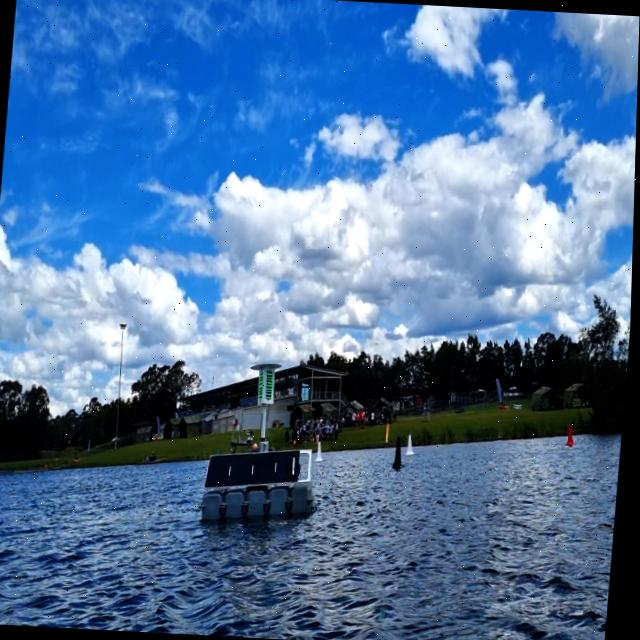led: (265, 368, 278, 403), (261, 370, 267, 400)
